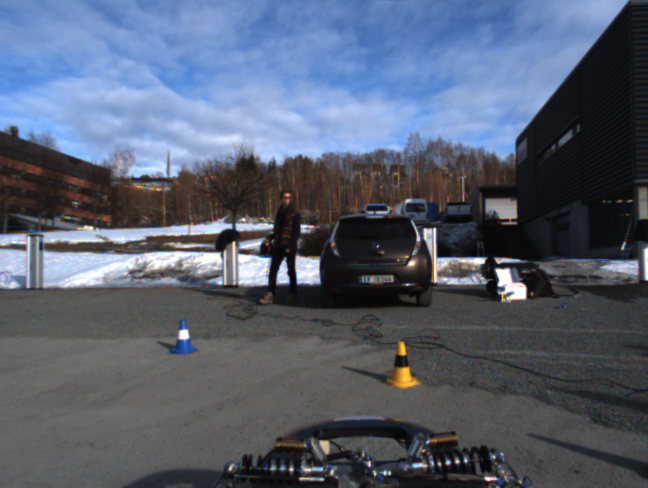cone-small-blue: (169, 320, 197, 353)
cone-small-yellow: (383, 341, 422, 389)
